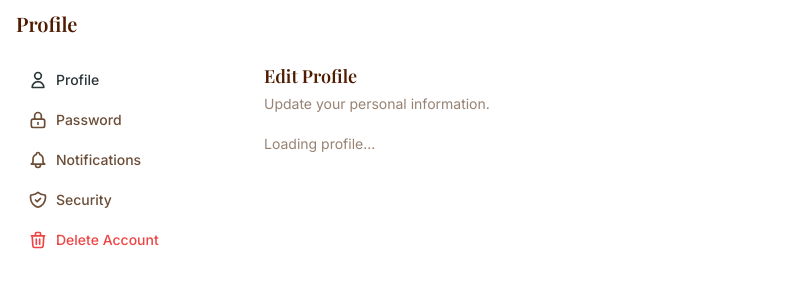
ClientSettings › notifications section › shows loading text while preferences are being fetched
Click the button "Notifications": (128, 160) [16,142,240,178]
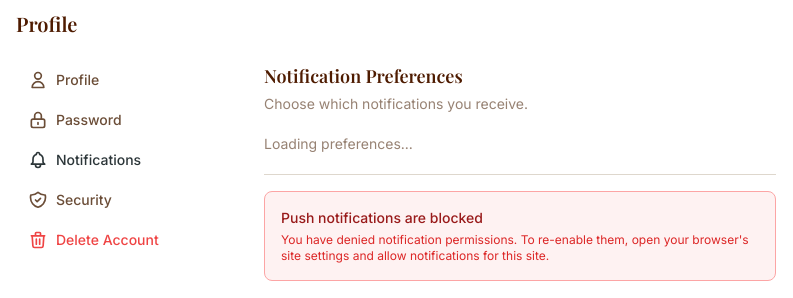
expect the text "Loading preferences..." is shown: met, box [264,135,413,152]
